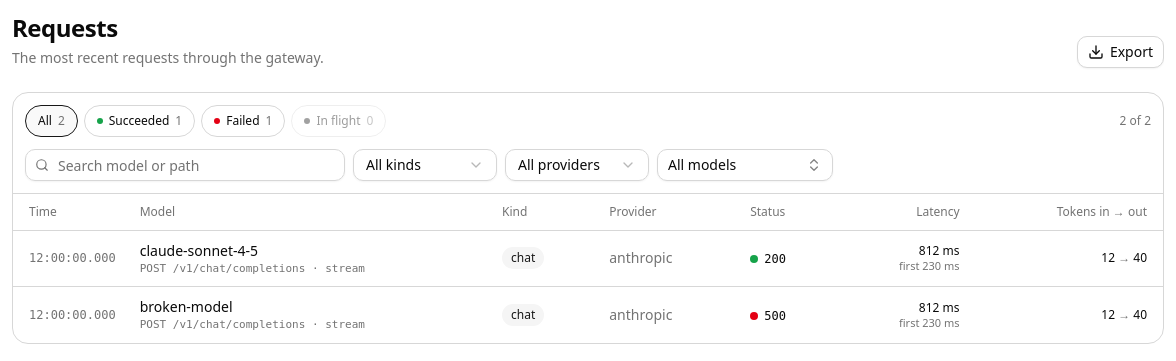
it: RequestsPage filters › narrows the list by status pill and counts each
Expected: the text "broken-model" is shown, [140,297,232,316]
Click the button "Failed 1": (243, 121) [201,105,285,137]
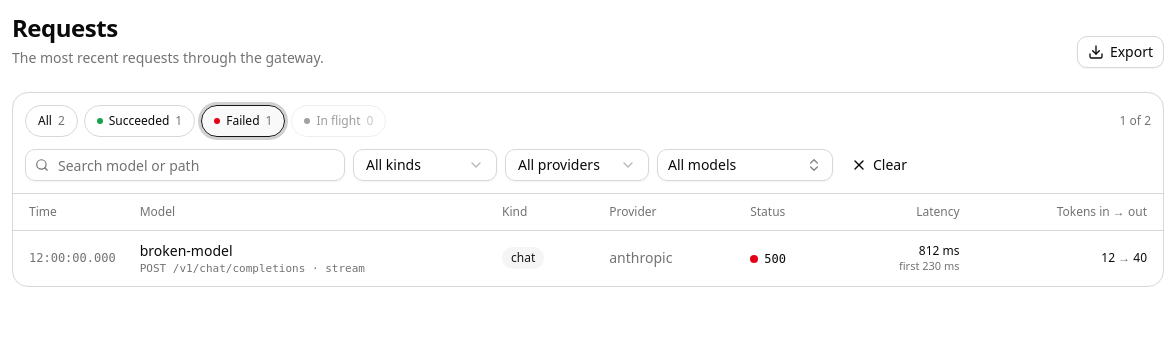
Expected: the text "broken-model" is shown, [140,240,232,260]
Result: the text "claude-sonnet-4-5" is gone
